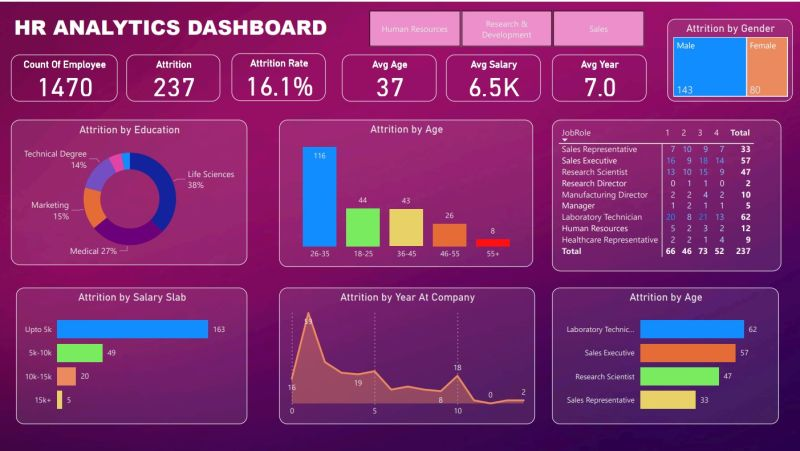

Layout of this report page (visuals, bound fields, positions):
{"tool":"powerbi","page":{"name":"Page 1","canvas":[1280,720],"ordinal":0},"visuals":[{"type":"card","title":"Attrition","fields":{"Values":["Sum(HR_Analytics.AttritionCount)"]},"box":[201.7,83.7,150,75],"z":0},{"type":"card","title":"Count Of Employee","fields":{"Values":["CountNonNull(HR_Analytics.EmpID)"]},"box":[17.8,83.7,170.2,75.5],"z":1000},{"type":"card","title":"Attrition Rate","fields":{"Values":["HR_Analytics.AttritionRate"]},"box":[370.5,82.3,149.6,75.5],"z":2000},{"type":"card","title":"Avg Age","fields":{"Values":["Avg(HR_Analytics.Age)"]},"box":[546.1,83.7,150.9,75.5],"z":3000},{"type":"card","title":"Avg Salary","fields":{"Values":["Avg(HR_Analytics.MonthlyIncome)"]},"box":[712.2,83.7,150.9,75.5],"z":4000},{"type":"card","title":"Avg Year","fields":{"Values":["Avg(HR_Analytics.YearsAtCompany)"]},"box":[881,83.7,150.9,75.5],"z":5000},{"type":"donutChart","title":"Attrition by Education","fields":{"Category":["HR_Analytics.EducationField"],"Y":["Sum(HR_Analytics.AttritionCount)"]},"box":[17.8,188,377.4,231.9],"z":6000},{"type":"columnChart","title":"Attrition by Age","fields":{"Category":["HR_Analytics.AgeGroup"],"Y":["Sum(HR_Analytics.AttritionCount)"]},"box":[446,188,404.8,234.6],"z":7000},{"type":"pivotTable","fields":{"Rows":["HR_Analytics.JobRole"],"Columns":["HR_Analytics.JobSatisfaction"],"Values":["Sum(HR_Analytics.AttritionCount)"]},"box":[881,188,366.4,241.5],"z":8000},{"type":"barChart","title":"Attrition by Salary Slab","fields":{"Category":["HR_Analytics.SalarySlab"],"Y":["Sum(HR_Analytics.AttritionCount)"]},"box":[26.1,455.6,369.1,218.2],"z":9000},{"type":"barChart","title":"Attrition by Age","fields":{"Category":["HR_Analytics.JobRole"],"Y":["Sum(HR_Analytics.AttritionCount)"]},"box":[881,455.6,362.3,218.2],"z":10000},{"type":"areaChart","title":"Attrition by Year At Company","fields":{"Category":["HR_Analytics.YearsAtCompany"],"Y":["Sum(HR_Analytics.AttritionCount)"]},"box":[446,455.6,407.5,218.2],"z":11000},{"type":"treemap","title":"Attrition by Gender","fields":{"Group":["HR_Analytics.Gender"],"Values":["Sum(HR_Analytics.AttritionCount)"]},"box":[1064.8,27.4,200.3,131.7],"z":12000},{"type":"slicer","fields":{"Values":["HR_Analytics.Department"]},"box":[564,6.9,488.5,71.4],"z":13000},{"type":"textbox","box":[17.8,12.3,528.3,59],"z":14000}]}

Visuals, with their boxes in screenshot pixels (x1, y1, x2, y2), scaled from the page's 1280x720 canvas onto the 800x451 screenshot:
"Attrition" card: bbox=[126, 52, 220, 99]
"Count Of Employee" card: bbox=[11, 52, 118, 100]
"Attrition Rate" card: bbox=[232, 52, 325, 99]
"Avg Age" card: bbox=[341, 52, 436, 100]
"Avg Salary" card: bbox=[445, 52, 539, 100]
"Avg Year" card: bbox=[551, 52, 645, 100]
"Attrition by Education" donutChart: bbox=[11, 118, 247, 263]
"Attrition by Age" columnChart: bbox=[279, 118, 532, 265]
pivotTable - HR_Analytics.JobRole x HR_Analytics.JobSatisfaction: bbox=[551, 118, 780, 269]
"Attrition by Salary Slab" barChart: bbox=[16, 285, 247, 422]
"Attrition by Age" barChart: bbox=[551, 285, 777, 422]
"Attrition by Year At Company" areaChart: bbox=[279, 285, 533, 422]
"Attrition by Gender" treemap: bbox=[666, 17, 791, 100]
slicer - HR_Analytics.Department: bbox=[352, 4, 658, 49]
textbox: bbox=[11, 8, 341, 45]
